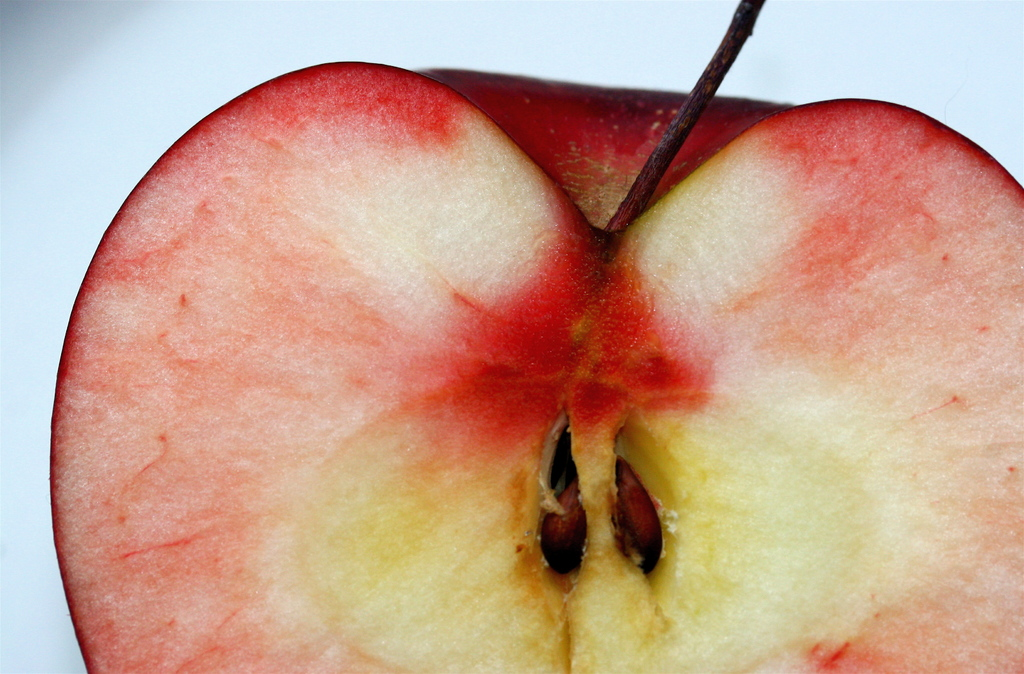Apple: (46, 0, 1023, 673)
